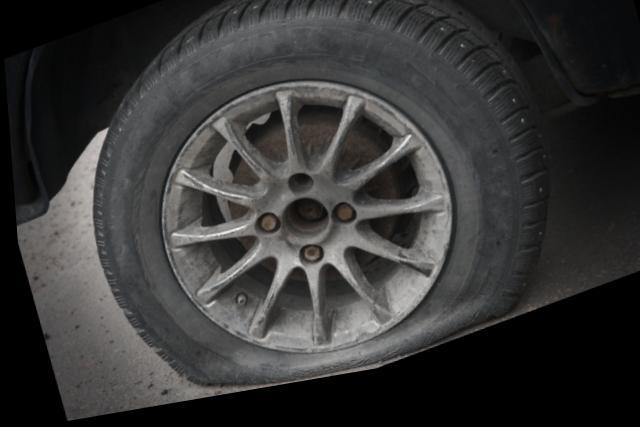tire flat: (86, 0, 549, 395)
